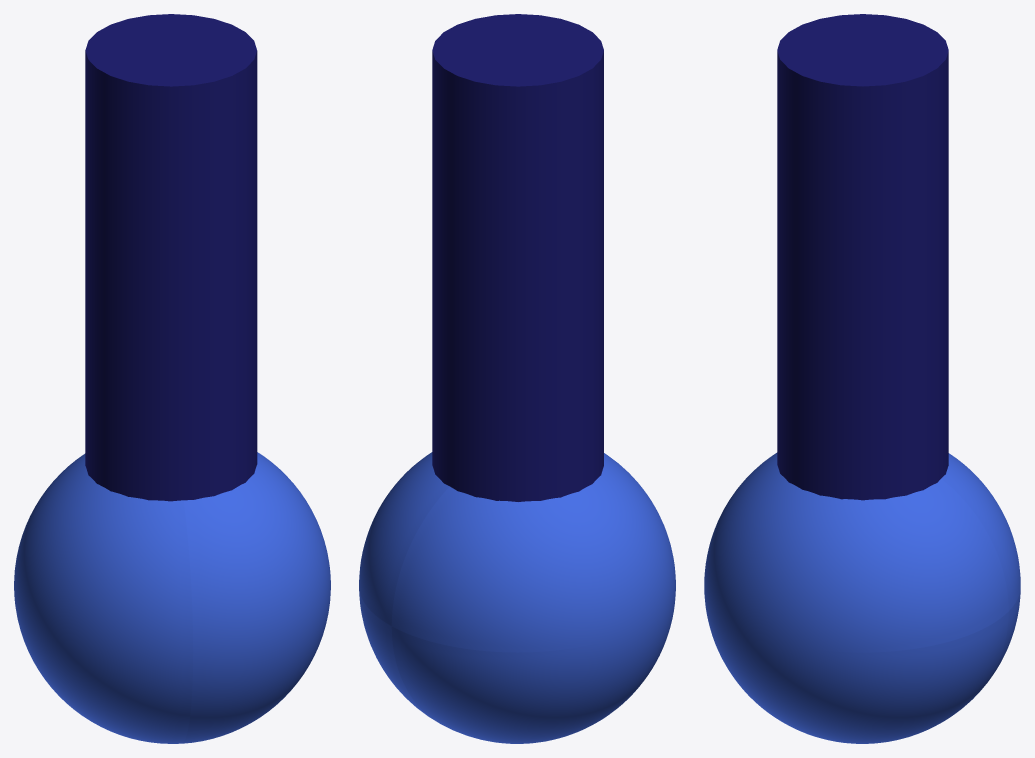
Rendered from Kanona.obj.
3 views of the same model, side by side, from view 1: azimuth 30°, elevation 25°; view 2: azimuth 150°, elevation 25°; view 3: azimuth 270°, elevation 25° (orthographic).
Visible parts, largest first — view 1: Mesh2 Model, Mesh1 Group1 Model; view 2: Mesh2 Model, Mesh1 Group1 Model; view 3: Mesh2 Model, Mesh1 Group1 Model.
Part boxes in pixels (<box>): Mesh2 Model: <box>85,14,257,501</box>; Mesh1 Group1 Model: <box>14,452,330,743</box>; Mesh2 Model: <box>432,14,603,501</box>; Mesh1 Group1 Model: <box>359,452,675,743</box>; Mesh2 Model: <box>777,14,948,500</box>; Mesh1 Group1 Model: <box>704,452,1020,743</box>.
Bounding box in the file's own units: 68 × 161 × 68.
